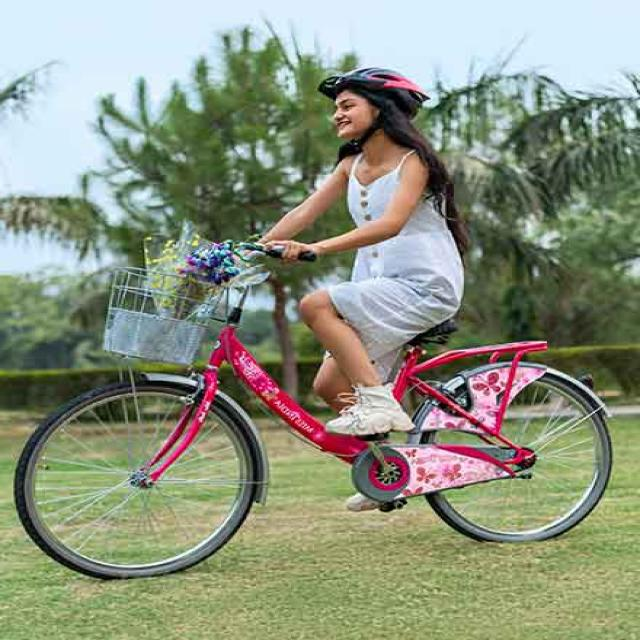bicycle: (14, 69, 612, 578)
